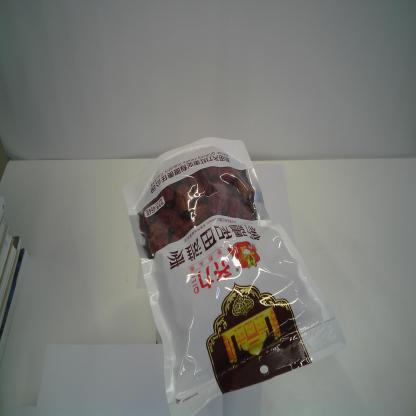Dried Food: (118, 134, 348, 416)
